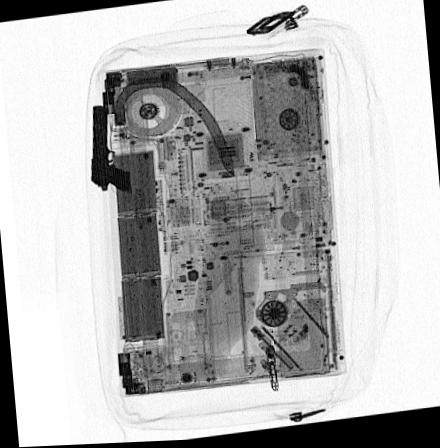Gun: (91, 108, 132, 194)
